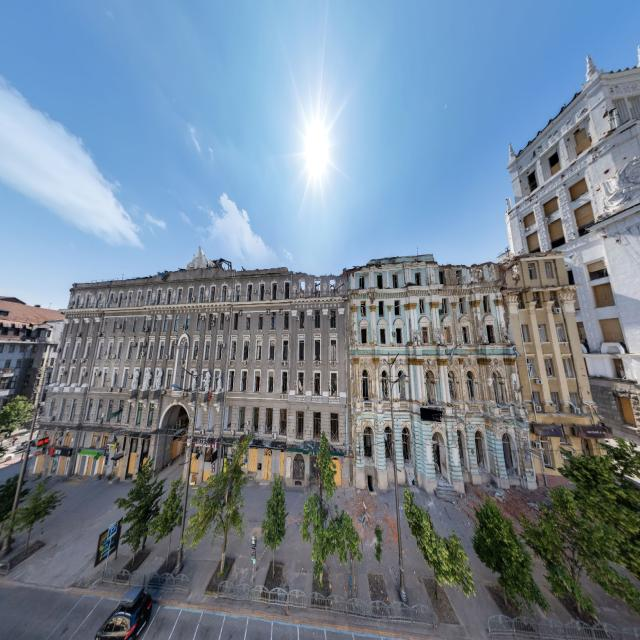building: (33, 250, 350, 489), (504, 48, 640, 469)
